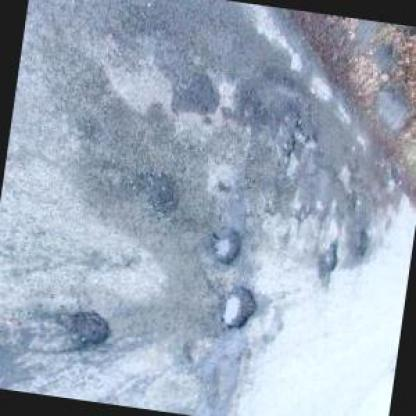pothole: (171, 72, 223, 118), (219, 284, 262, 334), (69, 308, 114, 349), (144, 169, 184, 215), (207, 227, 248, 269), (236, 88, 270, 128), (322, 237, 342, 272), (350, 228, 372, 257), (278, 138, 297, 156), (294, 126, 312, 144)
